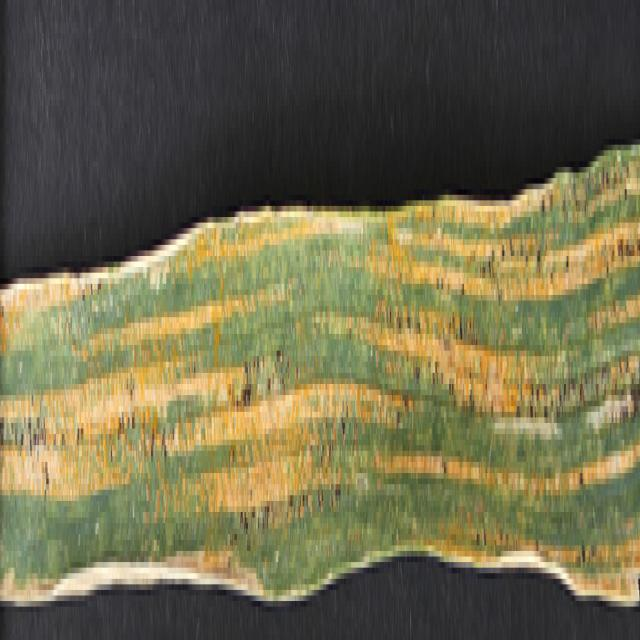leaf rust: (0, 212, 358, 584), (367, 178, 640, 601)
